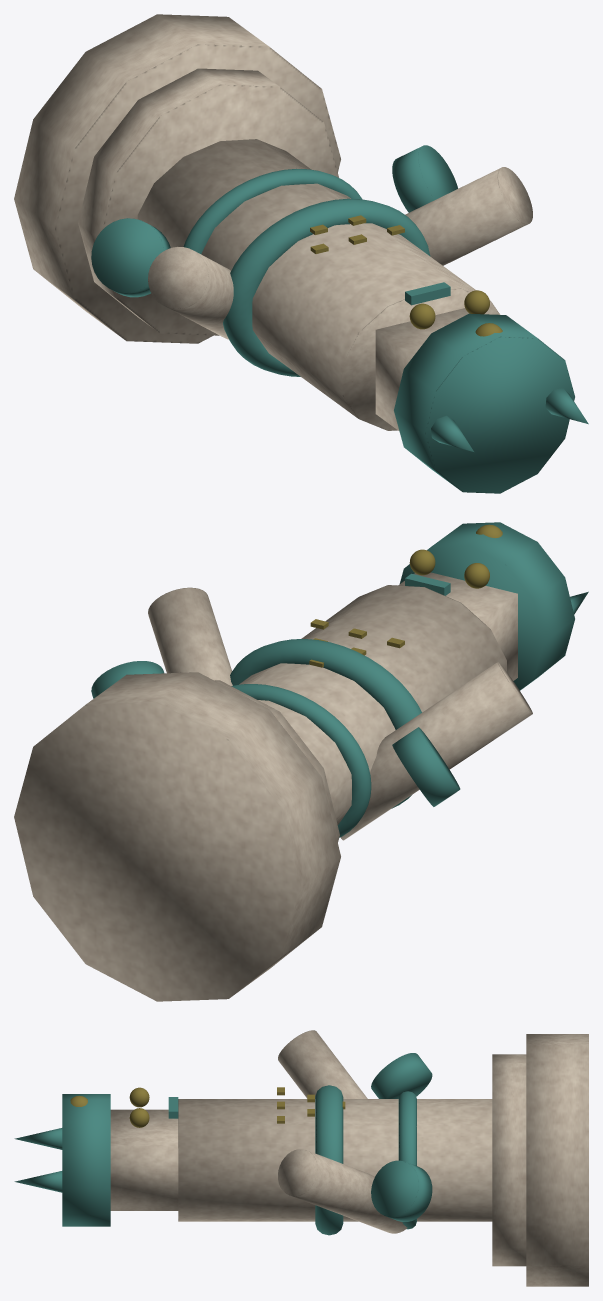
File: 05_guardiao_atlante_npc.obj
3 views of the same model, one above another, from view 1: azimuth 30°, elevation 25°; view 2: azimuth 150°, elevation 25°; view 3: azimuth 270°, elevation 25° (orthographic). The views are drawn at different scales.
Parts seen in each view (by area): view 1: Cylinder.002, Cylinder, Cylinder.003, Cylinder.001, Torus, Cylinder.004, Cylinder.006, Cylinder.007, Cube, Torus.001, Cylinder.005, Cone.001 (+2 smaller); view 2: Cylinder, Cylinder.002, Cylinder.003, Cylinder.006, Torus, Cylinder.004, Torus.001, Cube, Cylinder.007, Cylinder.001, Cylinder.005; view 3: Cylinder.002, Cylinder, Cylinder.001, Cube, Cylinder.003, Cylinder.004, Cylinder.006, Cylinder.005, Torus, Cylinder.007, Torus.001, Cone.001 (+1 smaller).
Part boxes in pixels (x1=…): Cylinder.002: x1=137, y1=139, x2=500, y2=430; Cylinder: x1=14, y1=14, x2=340, y2=343; Cylinder.003: x1=394, y1=313, x2=574, y2=493; Cylinder.001: x1=78, y1=68, x2=338, y2=335; Torus: x1=223, y1=198, x2=430, y2=376; Cylinder.004: x1=405, y1=167, x2=532, y2=265; Cylinder.006: x1=148, y1=246, x2=233, y2=339; Cylinder.007: x1=91, y1=218, x2=170, y2=297; Cube: x1=375, y1=308, x2=484, y2=430; Torus.001: x1=183, y1=168, x2=362, y2=253; Cylinder.005: x1=392, y1=145, x2=457, y2=212; Cone.001: x1=431, y1=415, x2=473, y2=451; Cylinder: x1=14, y1=672, x2=340, y2=1001; Cylinder.002: x1=239, y1=585, x2=506, y2=824; Cylinder.003: x1=399, y1=522, x2=574, y2=690; Cylinder.006: x1=340, y1=662, x2=532, y2=840; Torus: x1=230, y1=639, x2=421, y2=808; Cylinder.004: x1=148, y1=587, x2=232, y2=685; Torus.001: x1=231, y1=684, x2=371, y2=837; Cube: x1=398, y1=572, x2=517, y2=680; Cylinder.007: x1=392, y1=727, x2=460, y2=806; Cylinder.001: x1=214, y1=680, x2=339, y2=842; Cylinder.005: x1=91, y1=661, x2=164, y2=698; Cylinder.002: x1=178, y1=1099, x2=492, y2=1221; Cylinder: x1=526, y1=1034, x2=588, y2=1286; Cylinder.001: x1=492, y1=1054, x2=526, y2=1266; Cube: x1=110, y1=1109, x2=178, y2=1210; Cylinder.003: x1=62, y1=1094, x2=110, y2=1226; Cylinder.004: x1=278, y1=1149, x2=407, y2=1233; Cylinder.006: x1=278, y1=1030, x2=367, y2=1098; Cylinder.005: x1=371, y1=1160, x2=432, y2=1221; Torus: x1=315, y1=1085, x2=343, y2=1235; Cylinder.007: x1=371, y1=1053, x2=432, y2=1098; Torus.001: x1=398, y1=1091, x2=416, y2=1229; Cone.001: x1=14, y1=1128, x2=62, y2=1149.
Size of the model in its own units: 2.78 by 2.1 by 4.76.
Materials: 23 (23 with a texture image).
